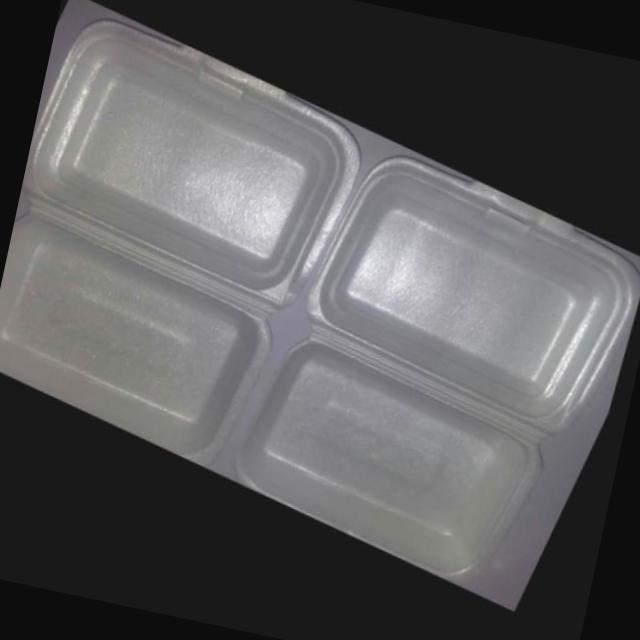xop: (22, 22, 364, 323), (310, 156, 640, 441), (239, 341, 548, 588), (0, 217, 276, 472)
